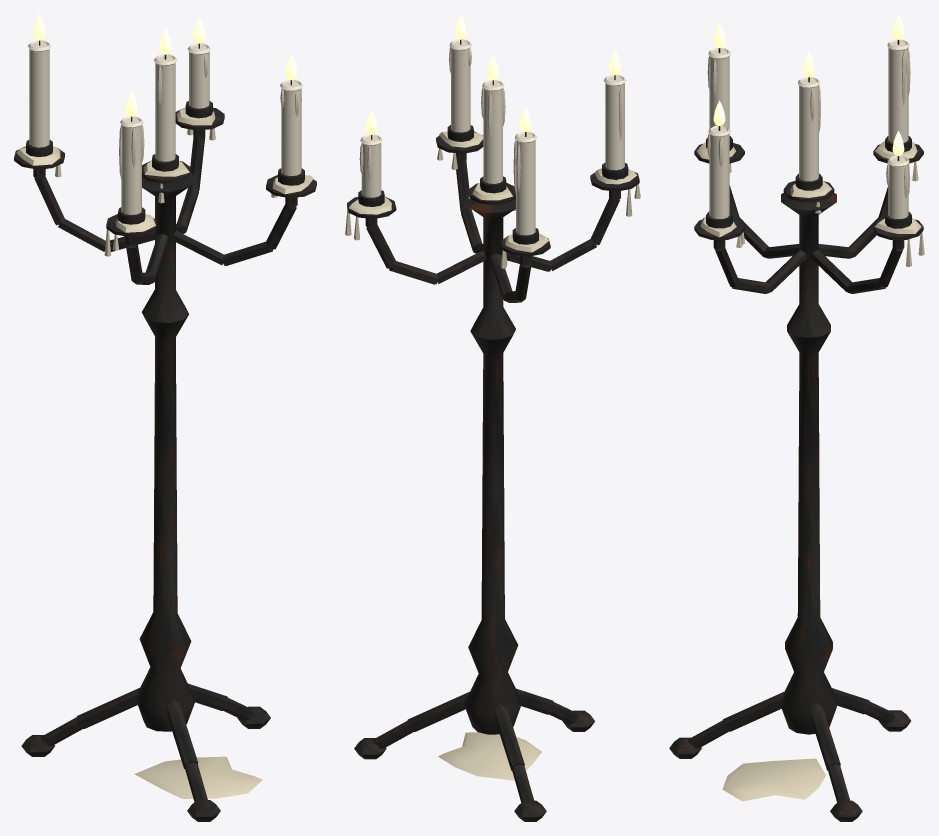
Rendered from candelabrum_tall.glb.
3 views of the same model, side by side, from view 1: azimuth 30°, elevation 25°; view 2: azimuth 150°, elevation 25°; view 3: azimuth 270°, elevation 25° (orthographic). The views are drawn at different scales.
Visible parts, largest first — view 1: candelabrum_tall; view 2: candelabrum_tall; view 3: candelabrum_tall.
Boxes of the visible parts, left/top/right/bottom form: candelabrum_tall: left=14, top=14, right=316, bottom=821; candelabrum_tall: left=345, top=14, right=640, bottom=821; candelabrum_tall: left=669, top=14, right=924, bottom=821.
Size of the model in its own units: 0.5922 by 1.88 by 0.606.
Materials: 5 (1 with a texture image).
